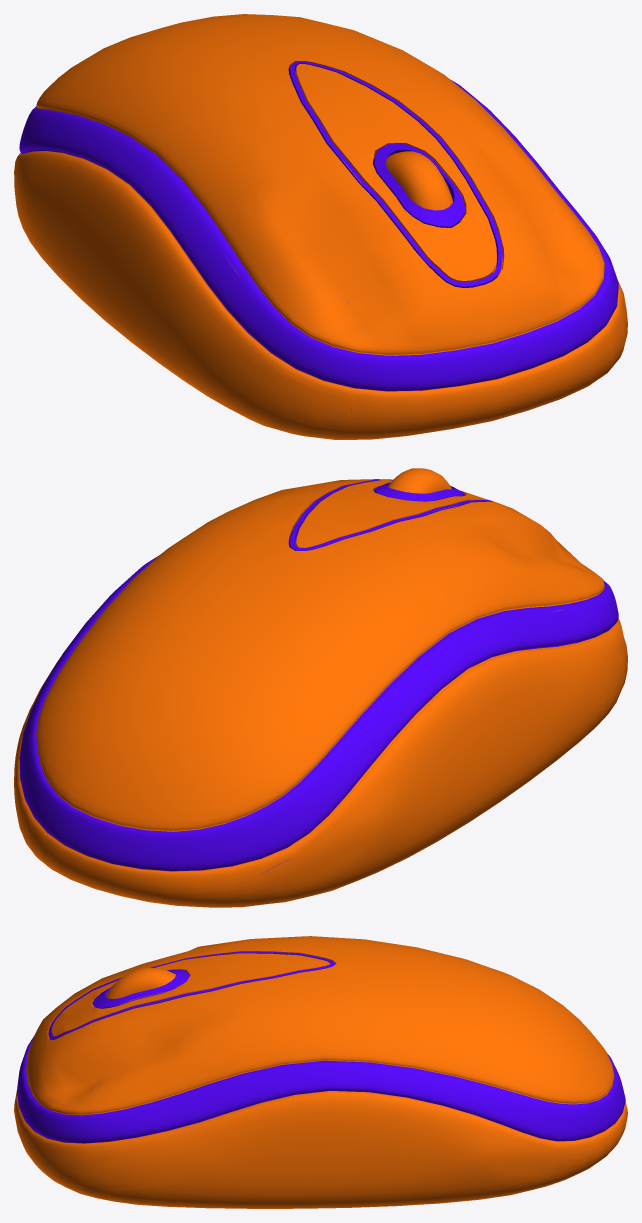
The model's file is device.fbx.
The picture shows the model from 3 angles, top to bottom: view 1: azimuth 30°, elevation 25°; view 2: azimuth 150°, elevation 25°; view 3: azimuth 270°, elevation 25°; orthographic projection. The views are drawn at different scales.
Parts seen in each view (by area): view 1: 026_3; view 2: 026_3; view 3: 026_3.
Part boxes in pixels (x1,y1,x2,y2): 026_3: [14, 14, 627, 439]; 026_3: [14, 468, 627, 907]; 026_3: [14, 936, 627, 1208].
Bounding box in the file's own units: 5.89 × 3.39 × 10.07.
Materials: 1 (1 with a texture image).
